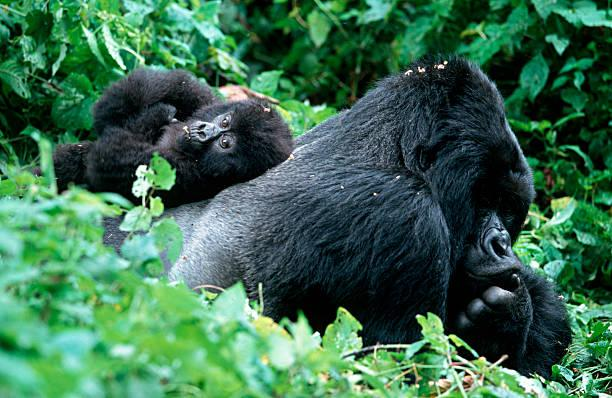goriile_montagne: (217, 11, 579, 346), (32, 60, 300, 190)
